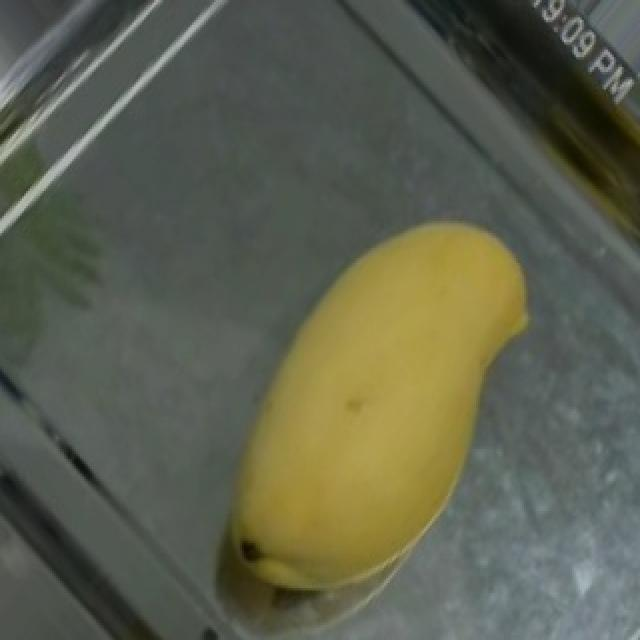fruit: (264, 166, 570, 543)
